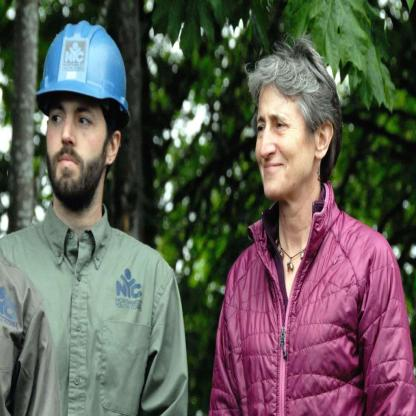Helmet: (36, 28, 126, 149)
